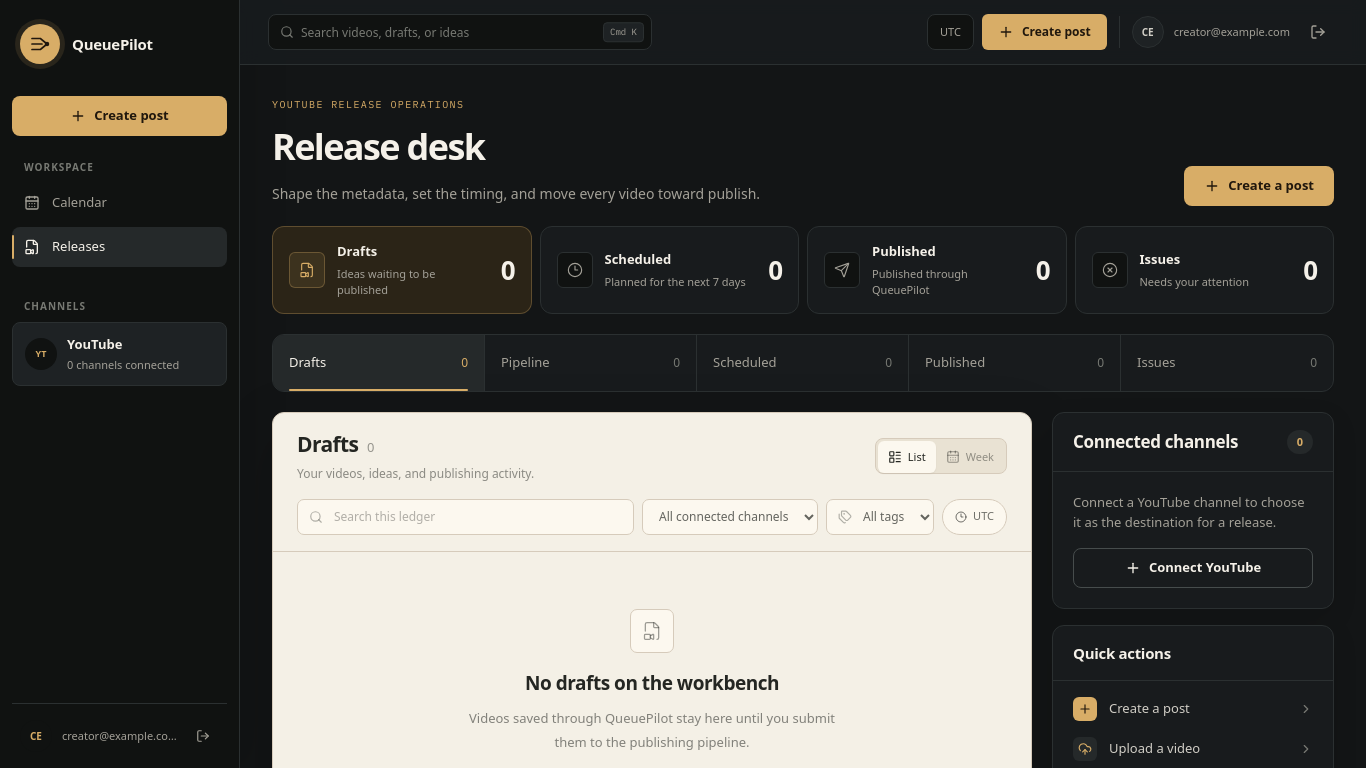
Scenario: Publishing workspace › switches the real queue to an empty calendar
Click the button with aria-label "Calendar".
click(970, 457)  # box [936,441,1004,473]
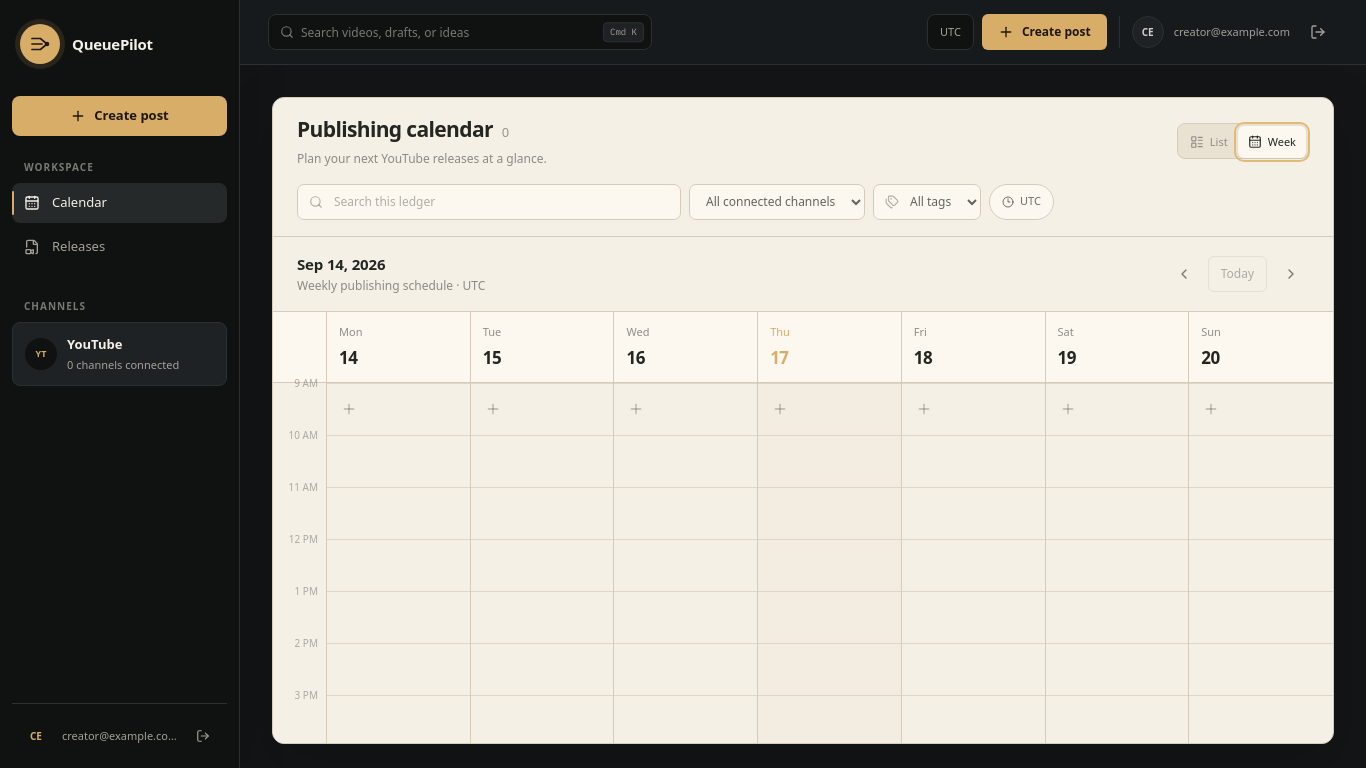
Now the text "Weekly publishing schedule · UTC" is shown, box [297,277,485,295]
